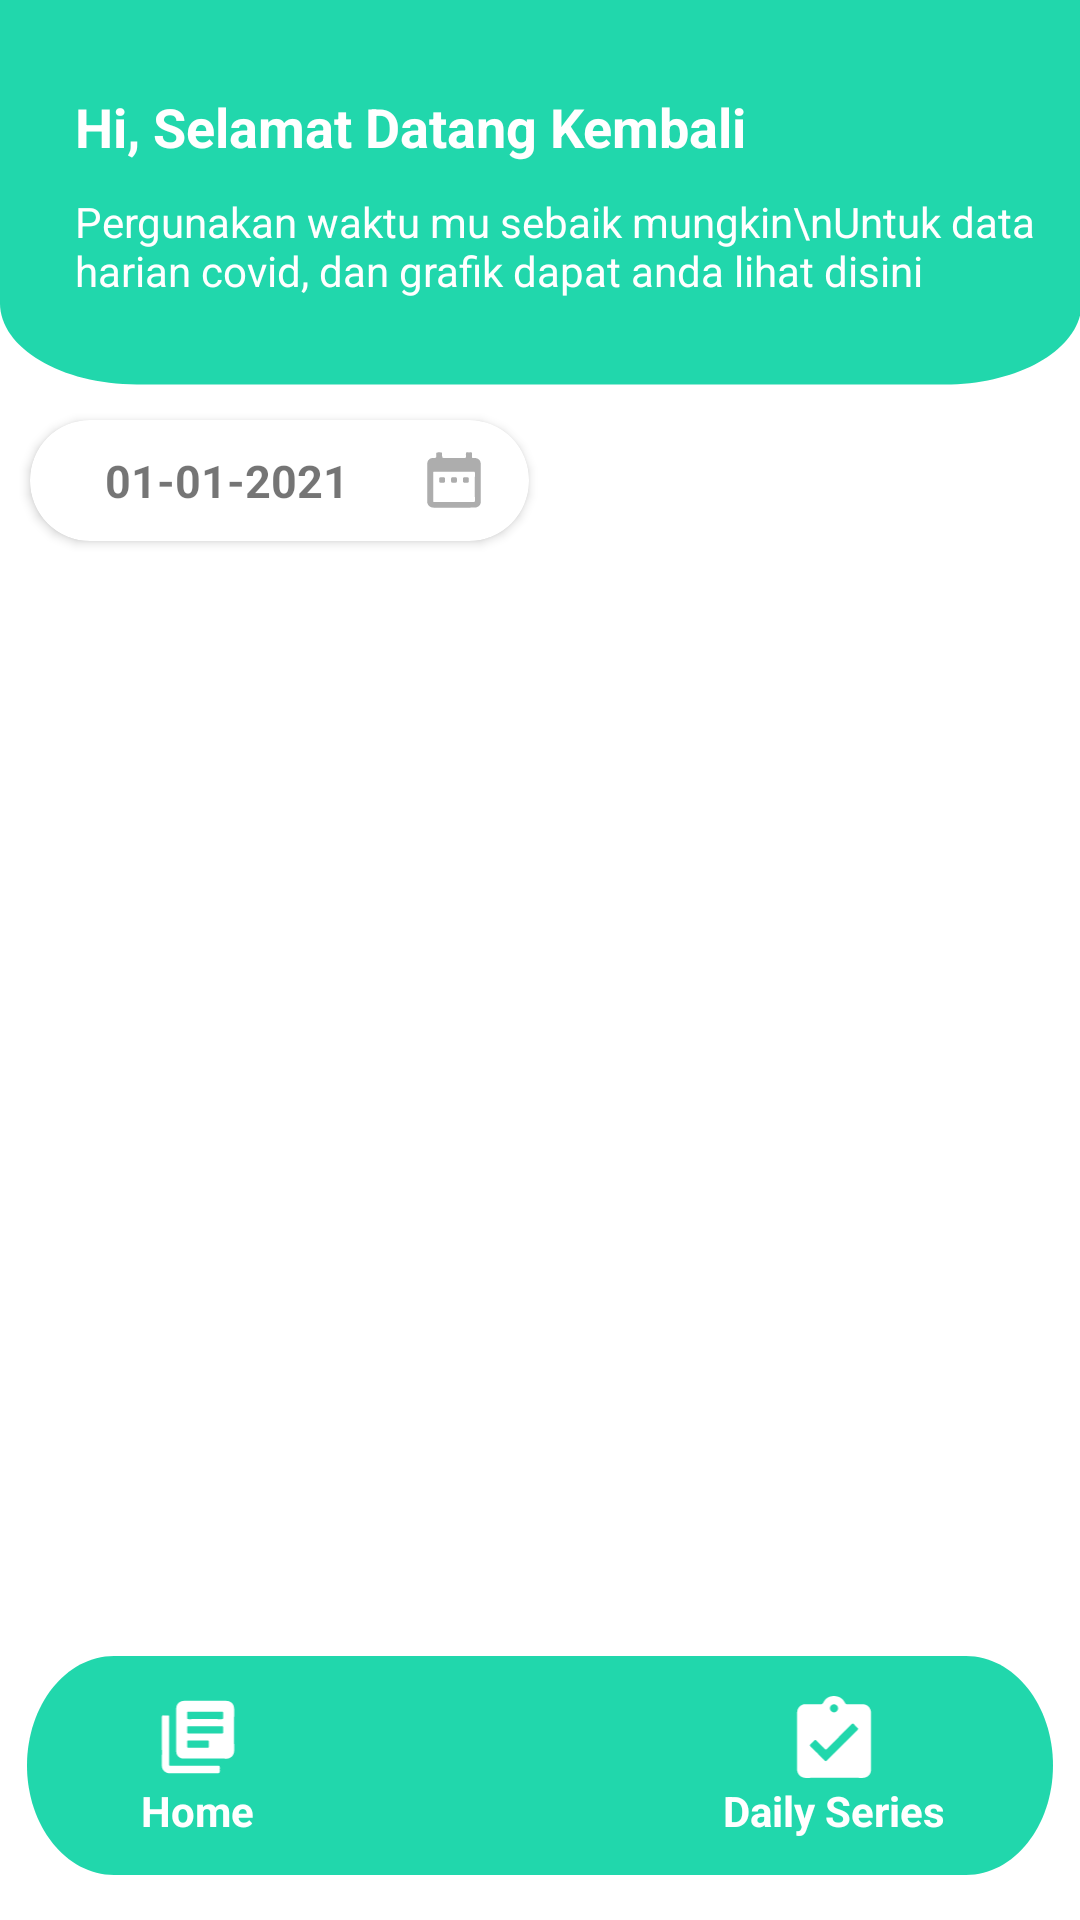

Screen size 1080 x 1920. Icon name, then its center in pixels as point (x, y):
date: point (454, 480)
summary: point (834, 1737)
